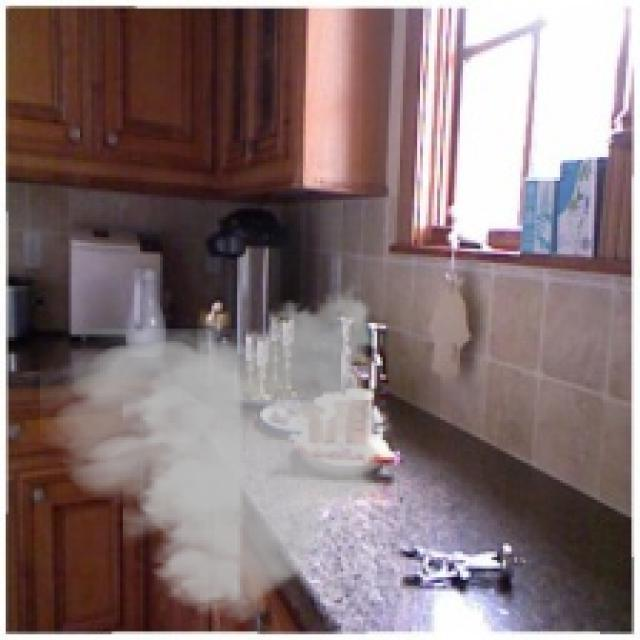Smoke: (40, 274, 397, 634)
